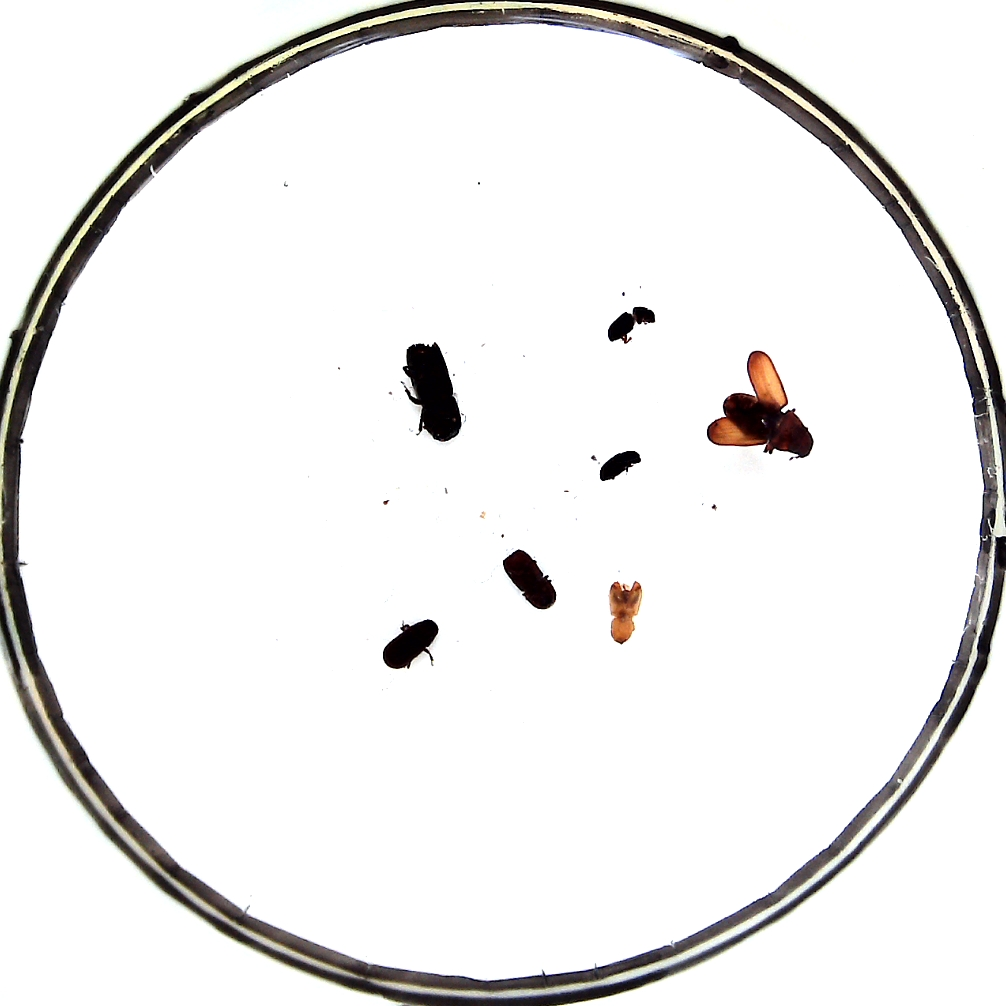Boerner: (405, 342, 462, 442)
Leconte: (723, 393, 814, 459)
acuminatus: (608, 306, 655, 342), (598, 450, 640, 481)
armandi: (382, 619, 438, 668)
coleoptera: (609, 580, 642, 645)
linnaeus: (502, 549, 556, 608)
